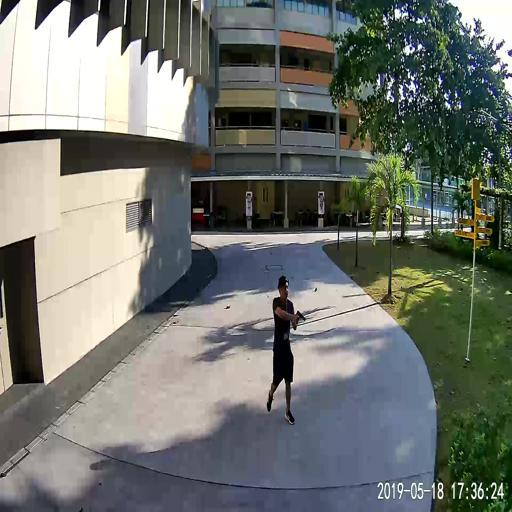Handgun: (294, 306, 305, 321)
